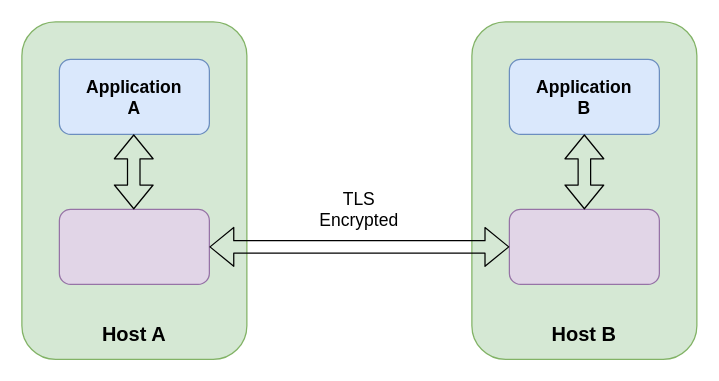
Image size: 719x381. Some labels were removed from this diagram. The shapes that lost their labels are listed below. From the top down, each one's centre as x and y in pixels, then its label:
At [133,246]: "Envoy Proxy A".
At [583,246]: "Envoy Proxy B".
